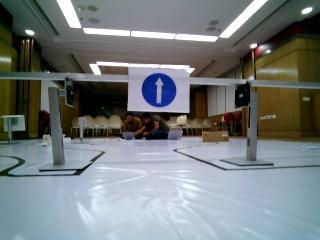straight: (127, 65, 190, 113)
